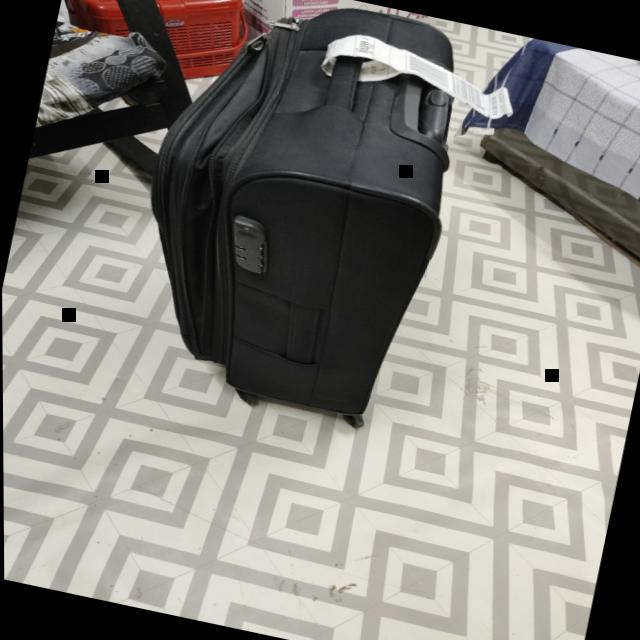luggage: (148, 8, 486, 427)
